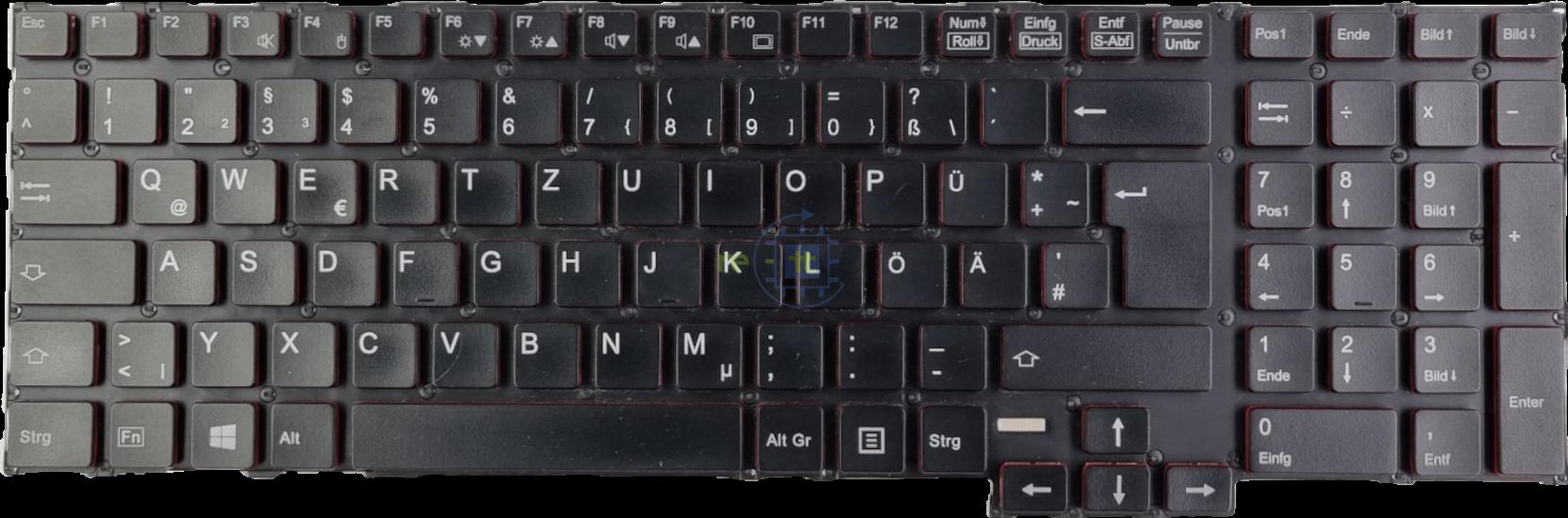0: (814, 73, 884, 146)
1: (88, 73, 157, 143)
2: (168, 75, 239, 143)
3: (248, 73, 319, 142)
4: (330, 74, 398, 144)
5: (411, 75, 480, 143)
6: (492, 75, 561, 145)
7: (572, 73, 642, 146)
8: (653, 73, 721, 148)
9: (734, 75, 802, 146)
a: (146, 235, 214, 303)
accent: (978, 73, 1047, 145)
ae: (957, 237, 1027, 308)
alt-left: (266, 398, 335, 469)
altgr-right: (753, 399, 824, 472)
b: (510, 318, 580, 388)
c: (348, 317, 417, 387)
caret: (6, 73, 77, 143)
comma: (753, 318, 822, 390)
d: (308, 236, 377, 306)
del: (1060, 73, 1211, 144)
e: (289, 154, 358, 223)
enter: (1100, 155, 1212, 309)
f: (389, 236, 458, 306)
g: (470, 235, 538, 305)
h: (551, 237, 620, 306)
hash: (1038, 237, 1107, 308)
i: (694, 157, 763, 226)
j: (633, 236, 701, 306)
k: (712, 237, 778, 308)
keyboard: (5, 1, 1559, 513)
l: (782, 235, 862, 306)
less: (106, 316, 174, 387)
m: (672, 318, 742, 391)
minus: (915, 319, 985, 390)
n: (592, 318, 661, 389)
o: (771, 154, 841, 223)
oe: (874, 237, 945, 308)
p: (854, 154, 923, 225)
plus: (1017, 155, 1088, 226)
point: (834, 319, 905, 390)
q: (128, 154, 198, 224)
r: (369, 155, 438, 225)
s: (226, 236, 295, 305)
shift-left: (3, 316, 93, 386)
shift-lock: (6, 234, 135, 303)
shift-right: (996, 318, 1212, 389)
space: (349, 397, 742, 475)
ss: (897, 75, 966, 147)
strg-left: (1, 395, 92, 470)
strg-right: (916, 400, 984, 471)
t: (451, 155, 520, 225)
tab: (7, 154, 116, 223)
u: (611, 154, 681, 225)
ue: (934, 154, 1006, 227)
v: (429, 318, 499, 386)
w: (208, 154, 276, 224)
x: (268, 317, 336, 386)
y: (187, 317, 255, 386)
z: (532, 156, 601, 224)
